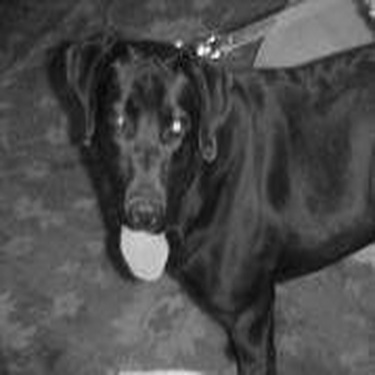dog: (44, 28, 371, 374)
